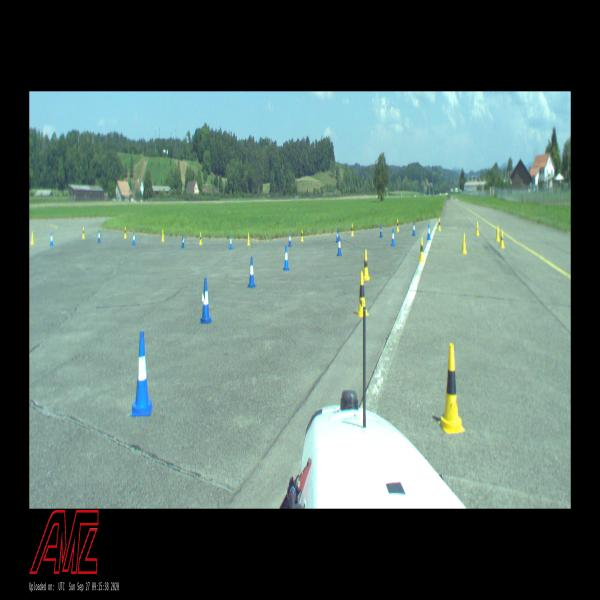blue_cone: (131, 330, 153, 417), (199, 278, 210, 323), (248, 256, 256, 288), (283, 245, 290, 270), (337, 236, 342, 256), (427, 223, 431, 241), (391, 228, 395, 246), (412, 221, 416, 237), (132, 231, 136, 246), (181, 234, 185, 249), (288, 232, 292, 247), (379, 224, 383, 238), (229, 235, 232, 250), (50, 232, 53, 247), (336, 228, 338, 243), (98, 229, 100, 242)
yellow_cone: (438, 343, 465, 434), (355, 271, 370, 317), (363, 249, 370, 281), (419, 236, 425, 262), (461, 232, 467, 254), (500, 229, 505, 248), (496, 225, 500, 241), (199, 232, 203, 245), (161, 228, 165, 241), (30, 232, 34, 244), (247, 231, 250, 246), (438, 217, 441, 232), (476, 221, 479, 236), (351, 223, 354, 237), (300, 228, 303, 242), (124, 226, 127, 239), (82, 227, 85, 239), (397, 218, 399, 232)
